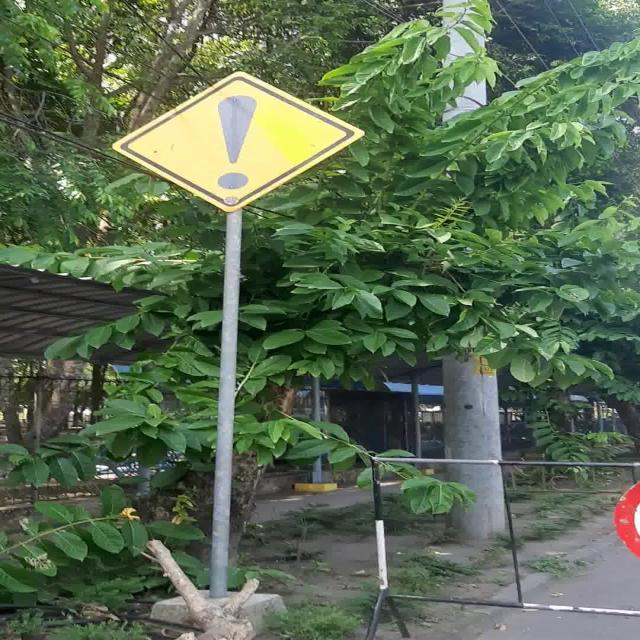Hati-Hati: (114, 72, 364, 212)
